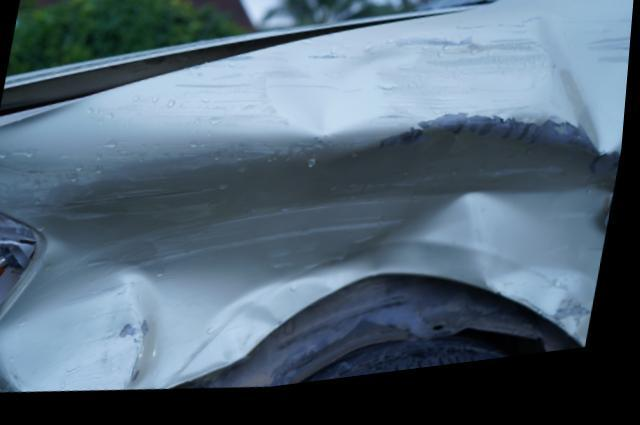dent: (0, 0, 636, 394)
lamp broken: (0, 218, 43, 315)
